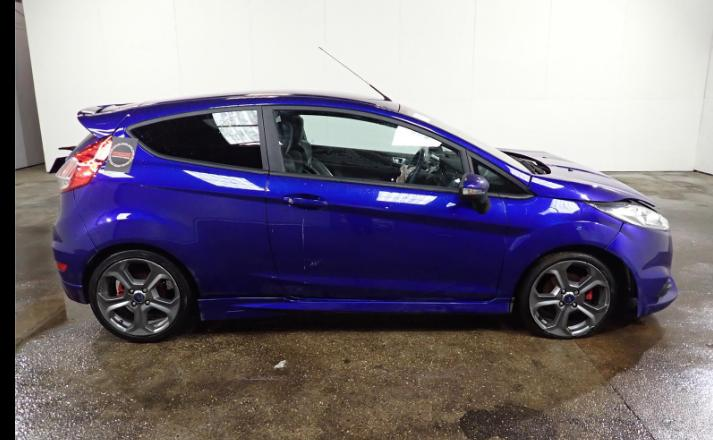Back-bumper: (52, 190, 98, 304)
Back-wheel: (88, 251, 191, 344)
Back-window: (130, 110, 266, 170)
Back-windshield: (66, 133, 94, 160)
Fender: (495, 196, 624, 299)
Front-bumper: (605, 222, 678, 318)
Front-door: (263, 106, 509, 302)
Front-wheel: (520, 252, 618, 338)
Front-window: (273, 109, 464, 188), (471, 157, 528, 194)
Headlight: (583, 200, 671, 233)
Hood: (497, 148, 658, 207)
Mirror: (458, 174, 491, 214)
Quarter-panel: (74, 157, 287, 297)
Rocker-panel: (197, 296, 511, 321)
Roof: (125, 90, 399, 128)
Tail-light: (55, 136, 113, 194)
Trunk: (66, 102, 143, 162)
Windshield: (398, 104, 532, 174)
